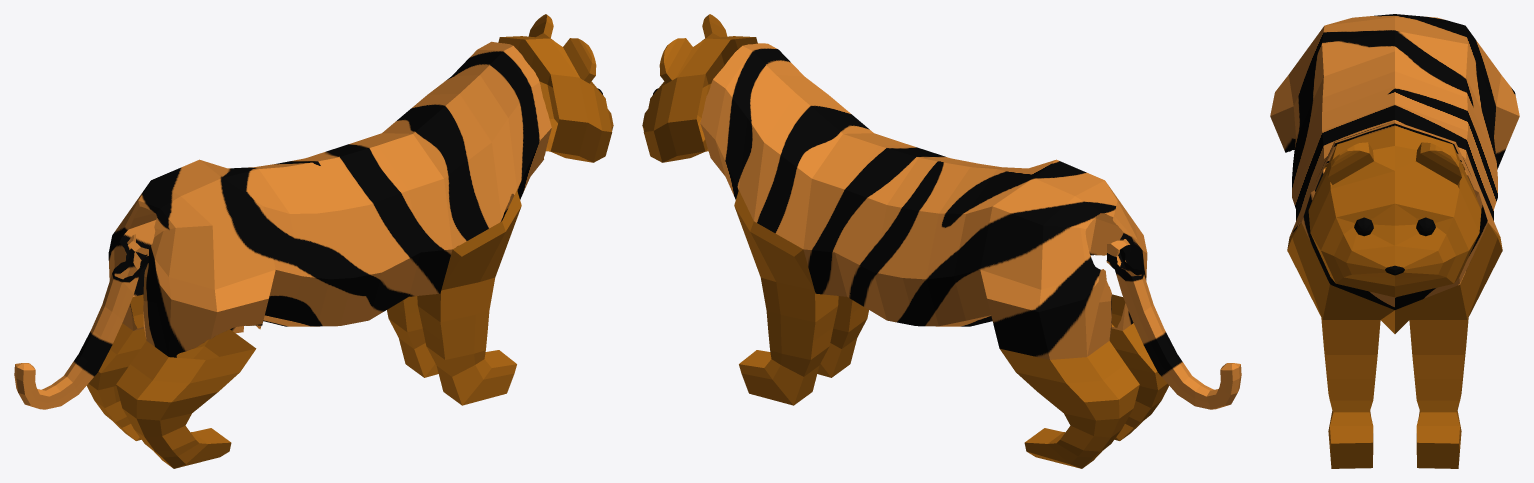
File: Adult tiger-stripes.orange legs 4.fbx
3 renders of one model, left to right at view 1: azimuth 30°, elevation 25°; view 2: azimuth 150°, elevation 25°; view 3: azimuth 270°, elevation 25°, orthographic. The views are drawn at different scales.
Parts seen in each view (by area): view 1: Circle; view 2: Circle; view 3: Circle.
Boxes of the visible parts, left/top/right/bottom form: Circle: left=14, top=14, right=613, bottom=468; Circle: left=642, top=14, right=1241, bottom=468; Circle: left=1270, top=14, right=1519, bottom=468.
Size of the model in its own units: 502 by 267 by 162.
Materials: 3 (1 with a texture image).
